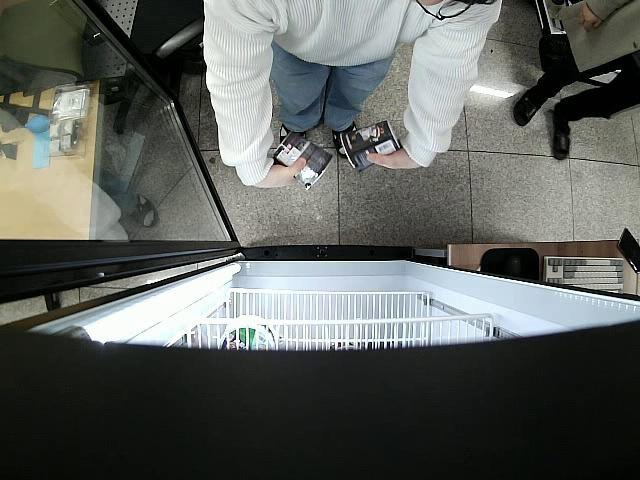08_buldak_S: (270, 130, 334, 188), (338, 120, 402, 175)
